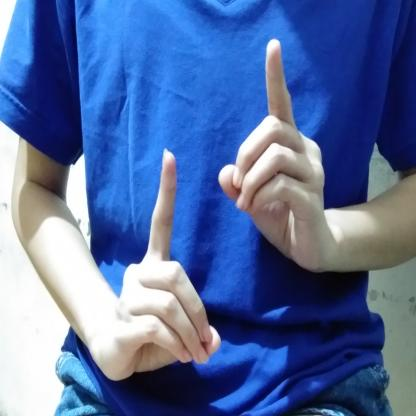morning: (113, 35, 330, 388)
